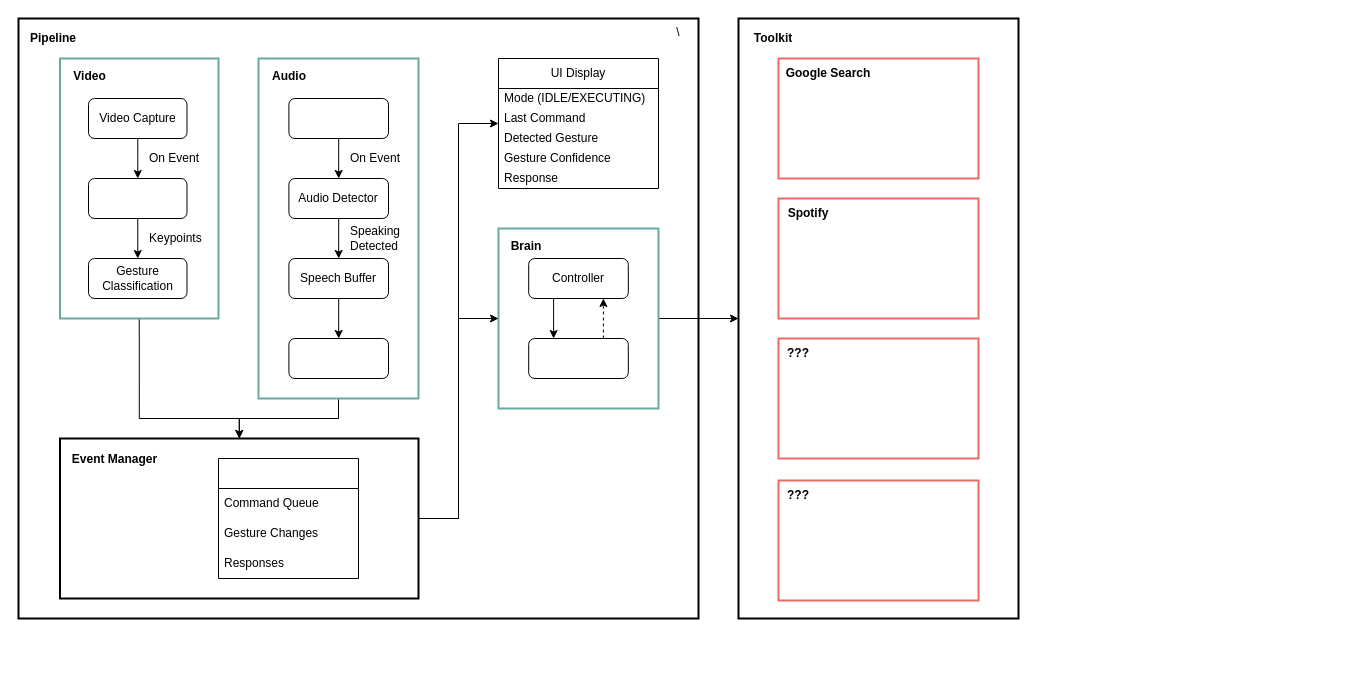
The diagram is 1355 pixels wide and 675 high, and some of its shapes have lost their labels. Each missing label, with the box of its shape:
Audio Capture: (288, 98, 388, 138)
Computer Vision: (88, 178, 187, 218)
LLM: (528, 338, 628, 378)
Speech Recognition: (288, 338, 388, 378)
System States: (218, 458, 358, 578)
